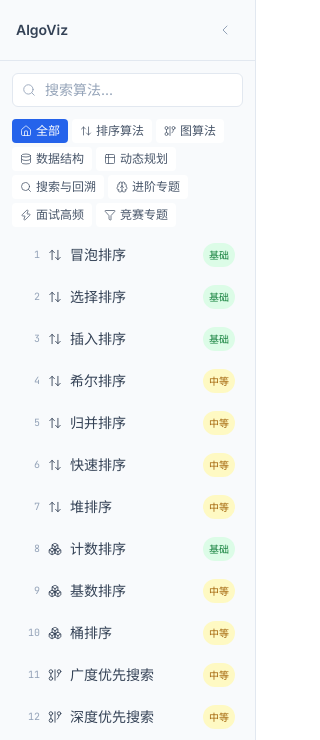
Sidebar — 展开态 › 输入搜索词更新 store 并过滤列表
Type "快速" into the field with placeholder "搜索算法..." at (128, 90), box [12,73,243,107]
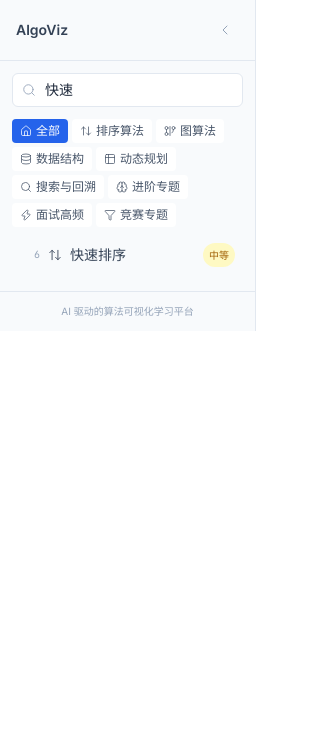
Expected: the text "快速排序" is shown, [70,246,126,263]
Result: the button "冒泡排序" is gone
